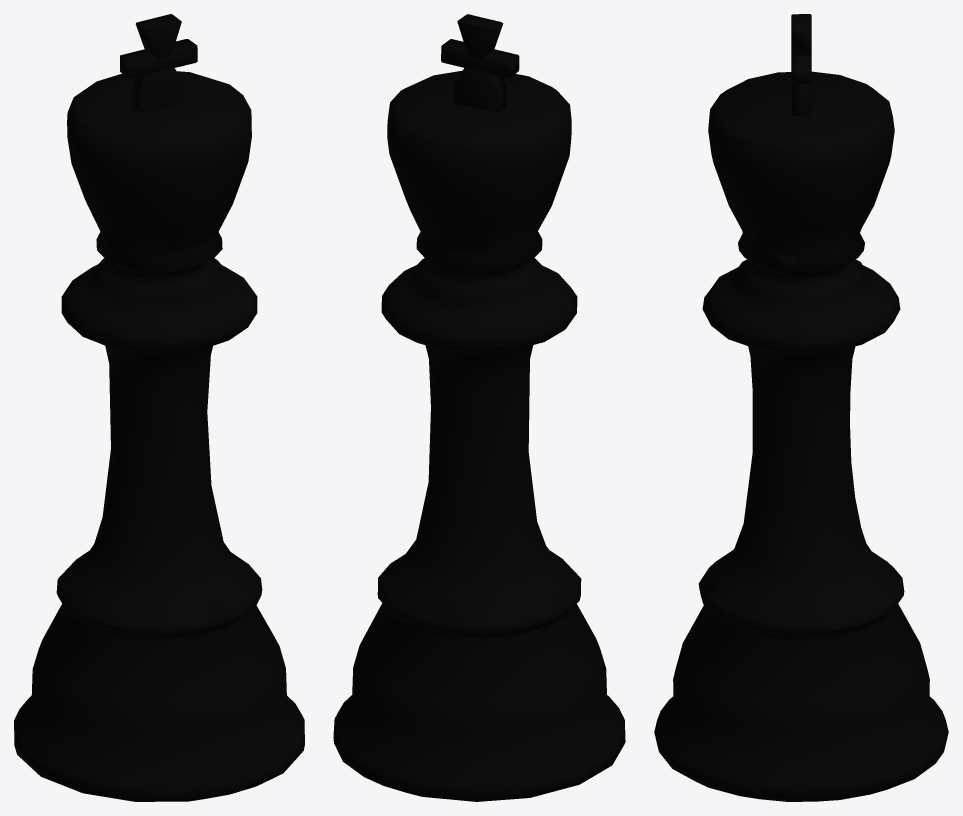
The model's file is ChessKing.fbx.
The picture shows the model from 3 angles, left to right: view 1: azimuth 30°, elevation 25°; view 2: azimuth 150°, elevation 25°; view 3: azimuth 270°, elevation 25°; orthographic projection.
Visible parts, largest first — view 1: King; view 2: King; view 3: King.
Boxes of the visible parts, x1,y1,x2,y2 form: King: (14, 14, 304, 801); King: (333, 14, 625, 801); King: (654, 14, 948, 801).
Size of the model in its own units: 126 by 341 by 126.
1 material, 1 textured.
